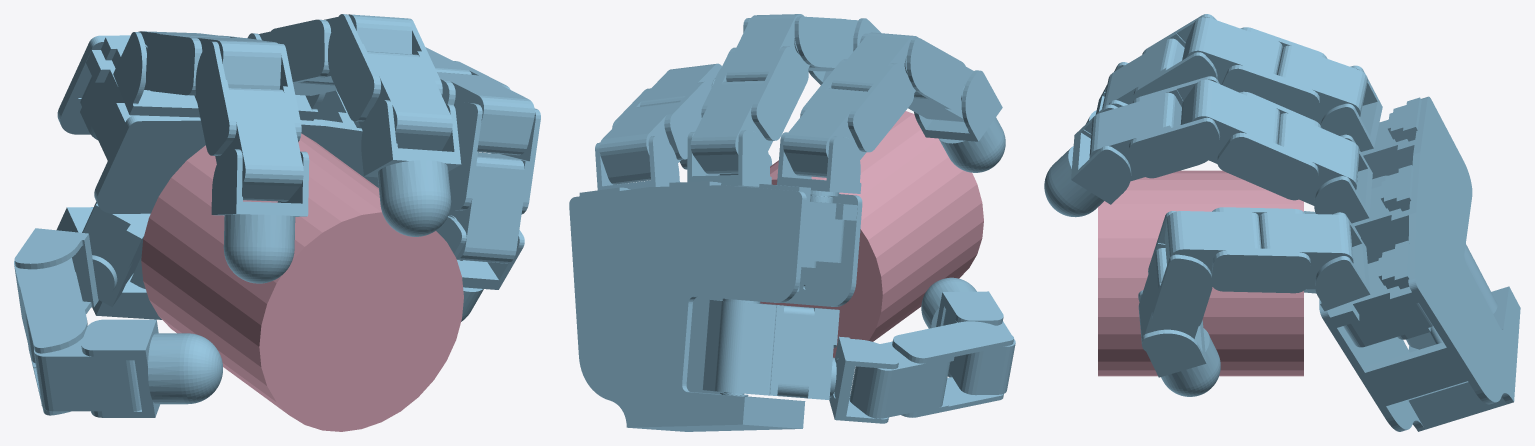
The picture shows the model from 3 angles, left to right: view 1: azimuth 30°, elevation 25°; view 2: azimuth 150°, elevation 25°; view 3: azimuth 270°, elevation 25°; orthographic projection. The views are drawn at different scales.
Parts seen in each view (by area): view 1: world; view 2: world; view 3: world.
Boxes of the visible parts, x1,y1,x2,y2 form: world: (14,14,540,431); world: (569,14,1015,431); world: (1044,14,1520,431).
Bounding box in the file's own units: 0.1772 × 0.1521 × 0.1849.
